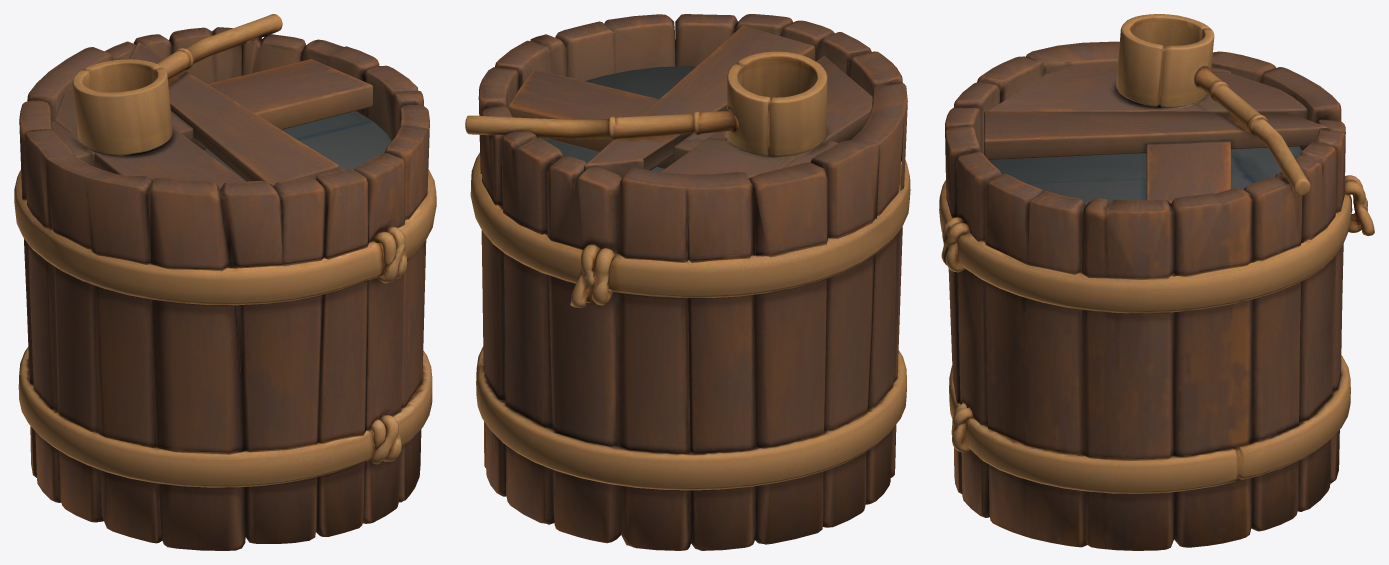
File: barrel.glb
3 views of the same model, side by side, from view 1: azimuth 30°, elevation 25°; view 2: azimuth 150°, elevation 25°; view 3: azimuth 270°, elevation 25° (orthographic). The views are drawn at different scales.
Visible parts, largest first — view 1: tripo_node_ad8b271b-b522-4a0d-b086-3a5978bc982d; view 2: tripo_node_ad8b271b-b522-4a0d-b086-3a5978bc982d; view 3: tripo_node_ad8b271b-b522-4a0d-b086-3a5978bc982d.
Part boxes in pixels (x1,y1,x2,y2): tripo_node_ad8b271b-b522-4a0d-b086-3a5978bc982d: (14,14,436,550); tripo_node_ad8b271b-b522-4a0d-b086-3a5978bc982d: (465,14,910,550); tripo_node_ad8b271b-b522-4a0d-b086-3a5978bc982d: (939,14,1374,550).
Size of the model in its own units: 0.9097 by 0.9897 by 0.9683.
Materials: 1 (1 with a texture image).
